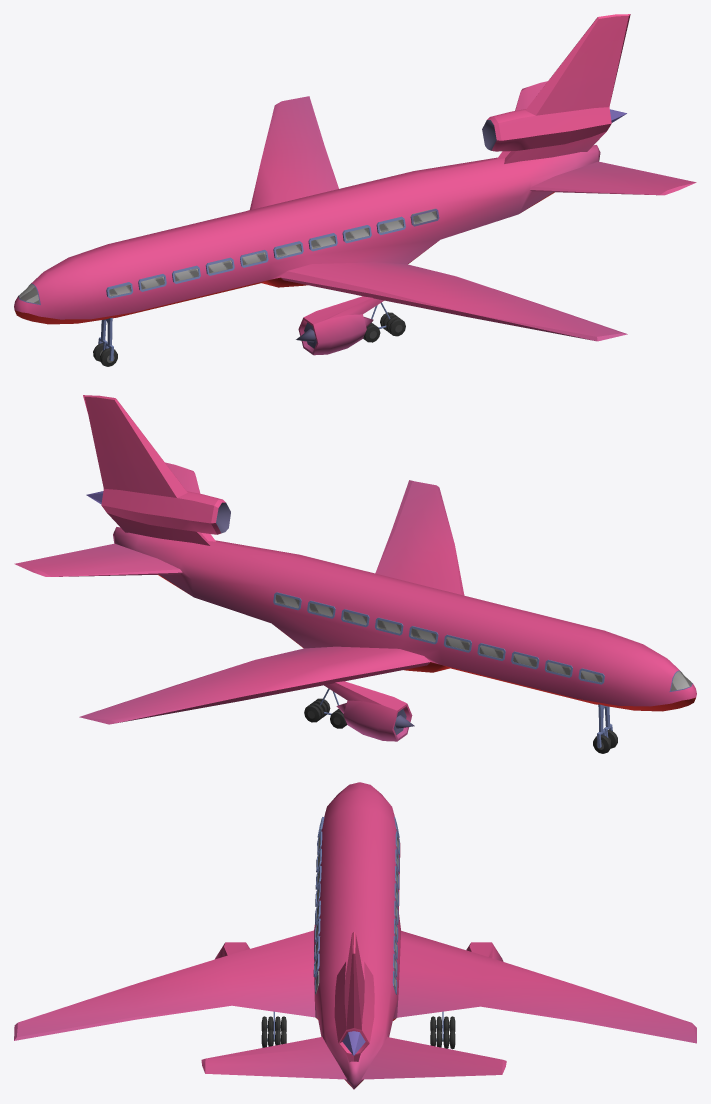
The picture shows the model from 3 angles, top to bottom: view 1: azimuth 30°, elevation 25°; view 2: azimuth 150°, elevation 25°; view 3: azimuth 270°, elevation 25°; orthographic projection. The views are drawn at different scales.
Visible parts, largest first — view 1: Plane_3_D; view 2: Plane_3_D; view 3: Plane_3_D.
Boxes of the visible parts, x1,y1,x2,y2 form: Plane_3_D: (14, 14, 696, 366); Plane_3_D: (14, 395, 696, 753); Plane_3_D: (14, 782, 696, 1089).
Size of the model in its own units: 27.12 by 9.69 by 24.81.
3 materials, 3 textured.
